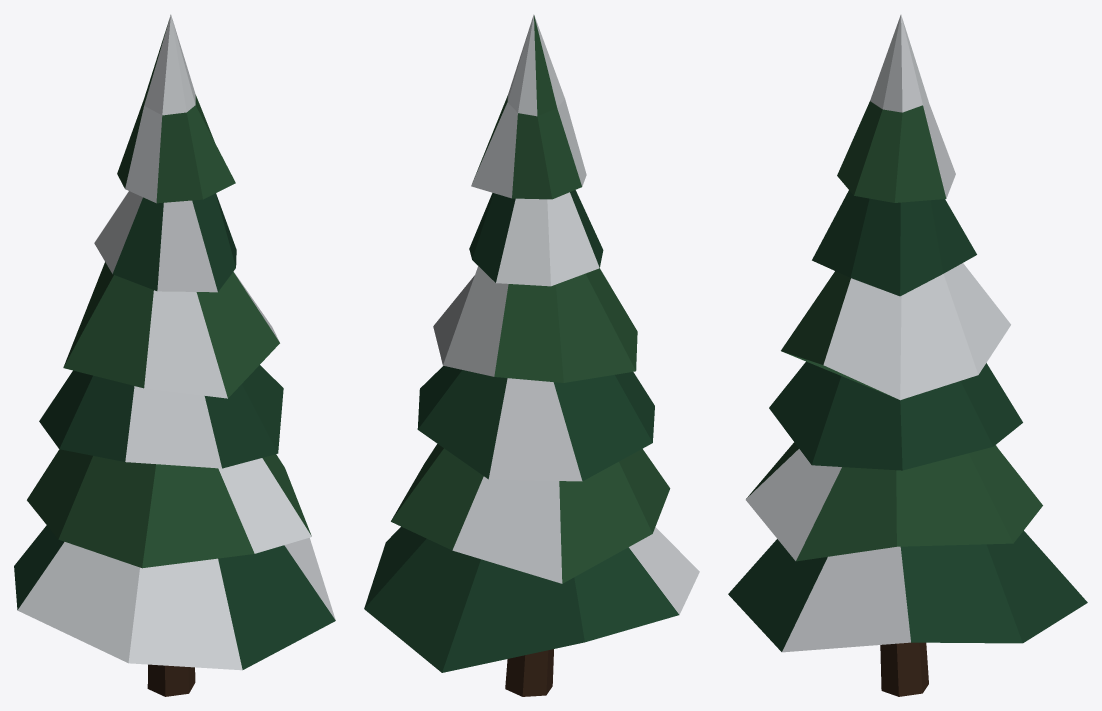
File: Tree_SnowPine_B.glb
3 views of the same model, side by side, from view 1: azimuth 30°, elevation 25°; view 2: azimuth 150°, elevation 25°; view 3: azimuth 270°, elevation 25° (orthographic).
Parts seen in each view (by area): view 1: Tree_SnowPine_B; view 2: Tree_SnowPine_B; view 3: Tree_SnowPine_B.
Boxes of the visible parts, left/top/right/bottom form: Tree_SnowPine_B: left=14, top=14, right=335, bottom=696; Tree_SnowPine_B: left=364, top=14, right=699, bottom=696; Tree_SnowPine_B: left=728, top=14, right=1087, bottom=696.
Bounding box in the file's own units: 2.33 × 5.13 × 2.48.
